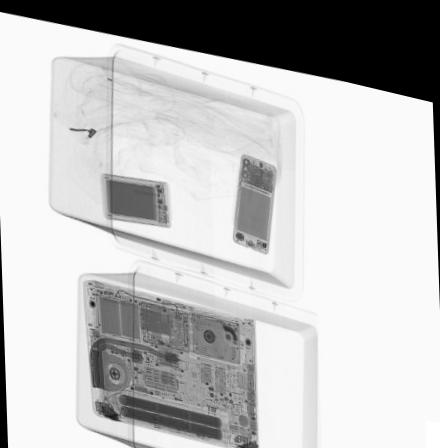Powerbank: (98, 166, 170, 219)
